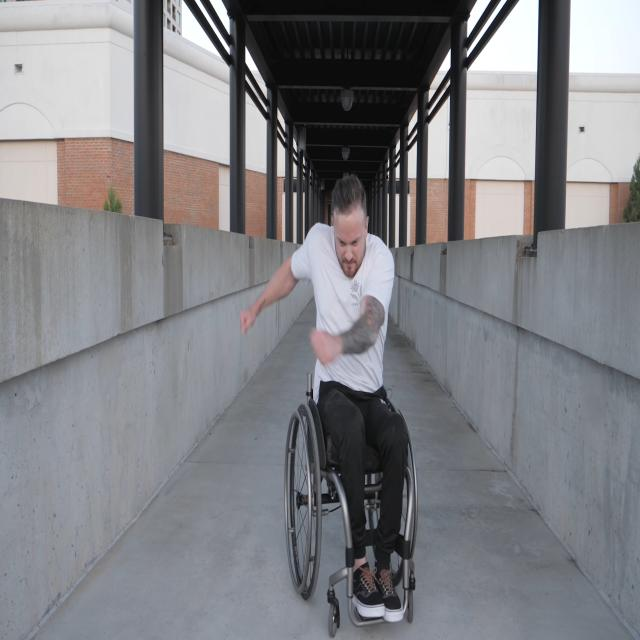wheelchairs: (283, 329, 419, 637)
